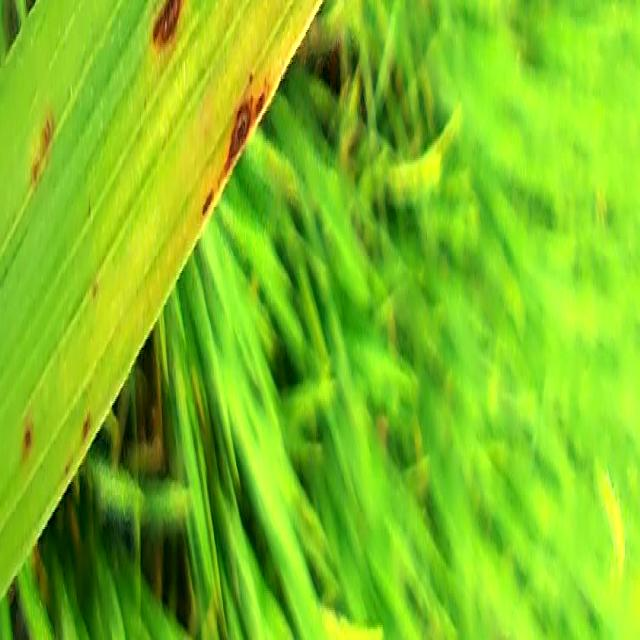LEAF BLAST: (224, 99, 251, 175), (153, 0, 182, 50)
